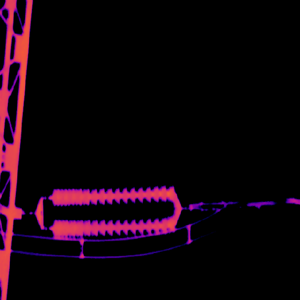insulator: (50, 183, 174, 206), (51, 217, 175, 238)
